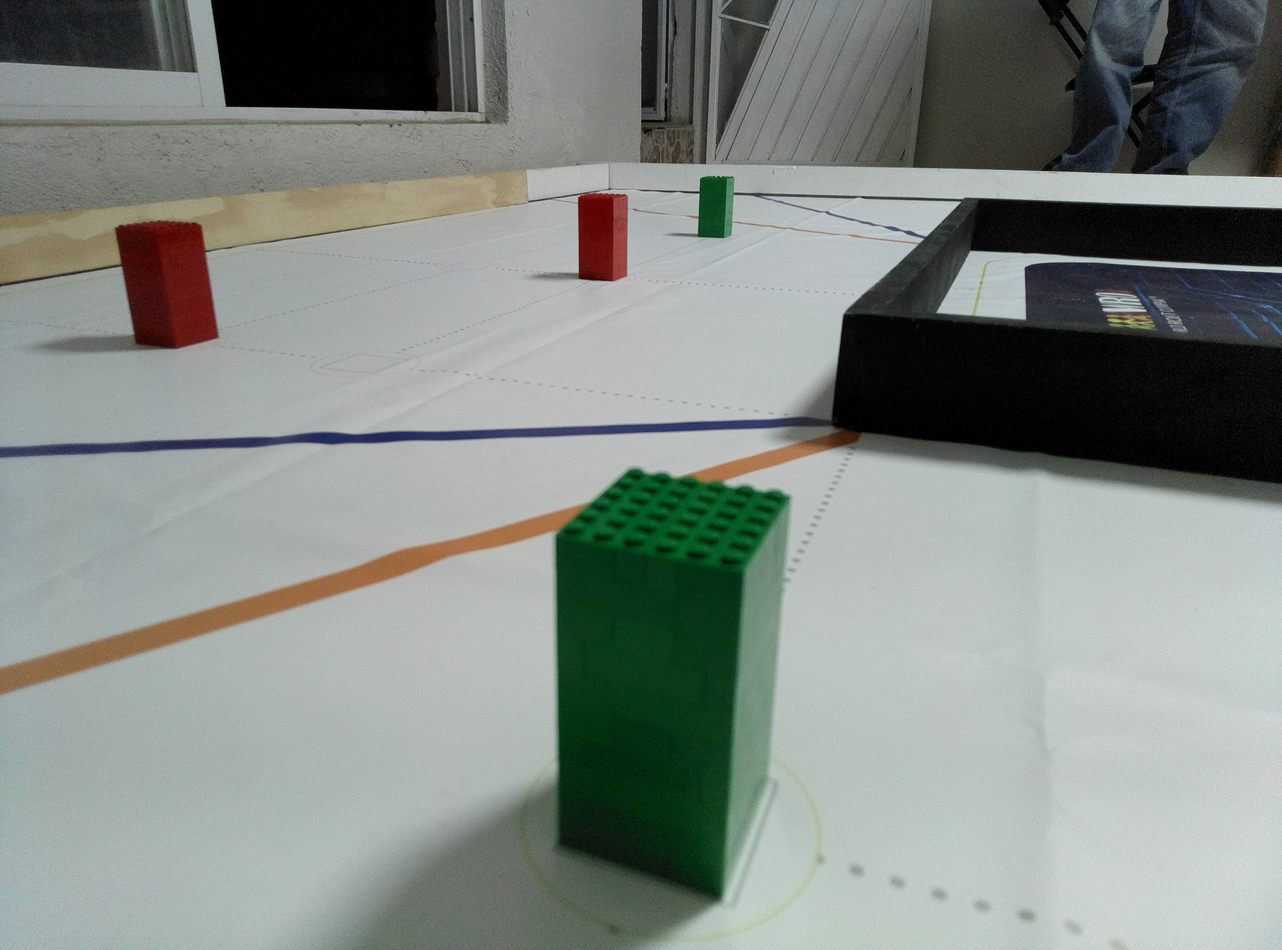greenbox: (548, 463, 796, 909), (697, 175, 735, 238)
redbox: (113, 219, 221, 353), (576, 191, 630, 284)
